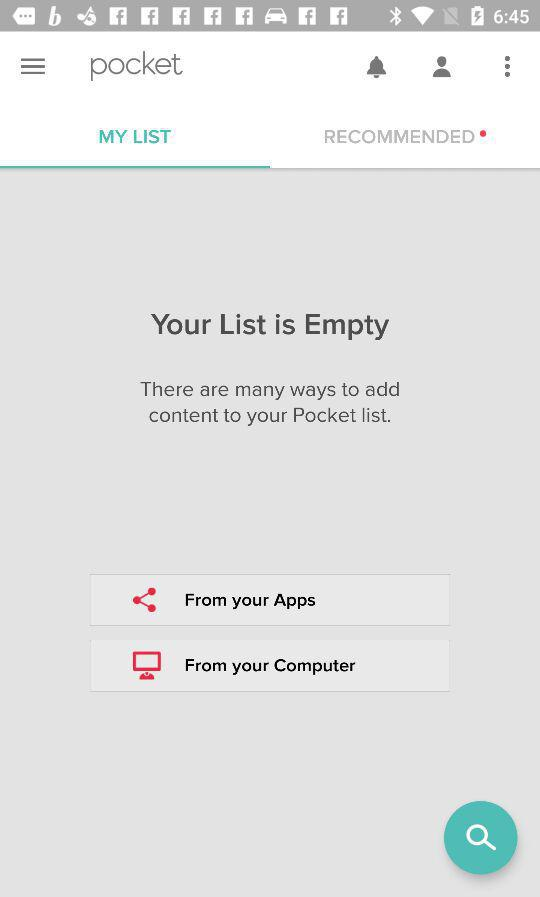Icon: (443, 800, 518, 875), (366, 56, 387, 80), (21, 58, 47, 76), (431, 57, 452, 79), (504, 56, 511, 79)
Text: (140, 381, 400, 427), (152, 313, 390, 341), (91, 51, 184, 83), (324, 130, 475, 145), (100, 130, 173, 145)
TextButton: (90, 639, 450, 692), (90, 574, 450, 627)
UpperTaskBar: (1, 1, 540, 33)
